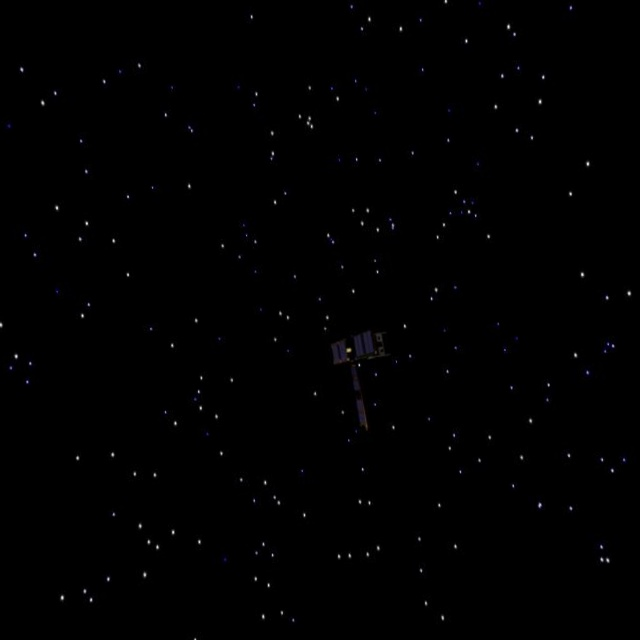medium_debris: (302, 298, 412, 436)
